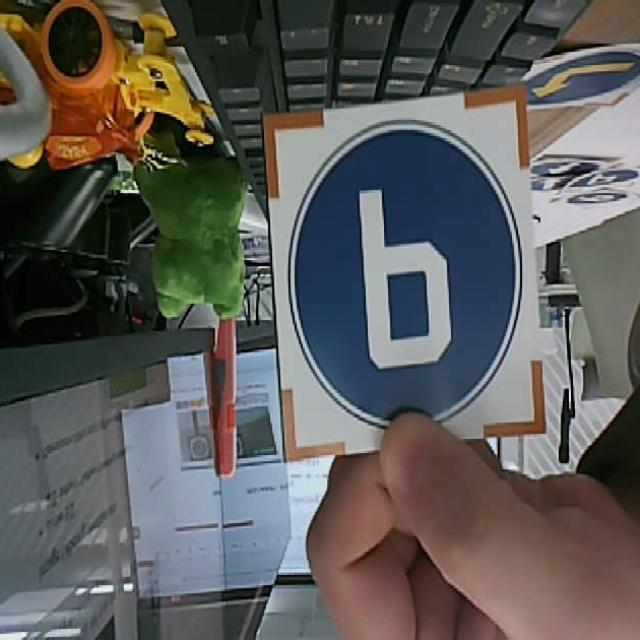parking: (259, 82, 547, 464)
